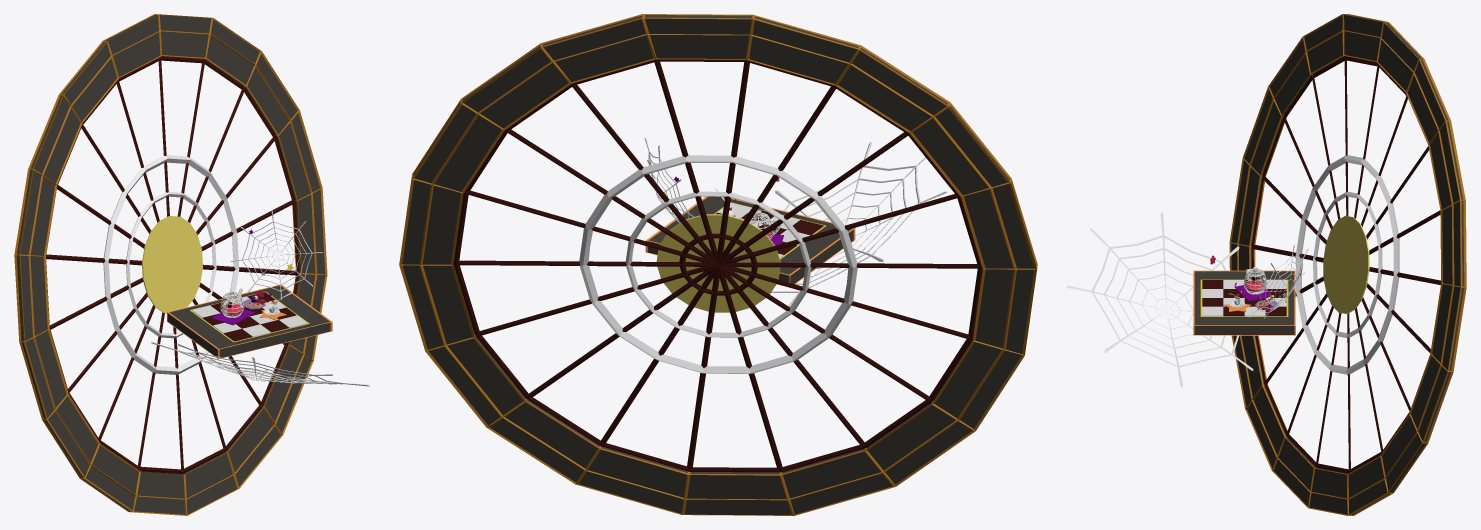
Rendered from ゴシックティーポットvr.glb.
3 views of the same model, side by side, from view 1: azimuth 30°, elevation 25°; view 2: azimuth 150°, elevation 25°; view 3: azimuth 270°, elevation 25° (orthographic). The views are drawn at different scales.
Visible parts, largest first — view 1: 立方体.002; view 2: 立方体.002; view 3: 立方体.002.
Boxes of the visible parts, x1,y1,x2,y2 form: 立方体.002: [14, 14, 369, 515]; 立方体.002: [399, 14, 1037, 515]; 立方体.002: [1066, 14, 1466, 515].
Bounding box in the file's own units: 161 × 170 × 139.
